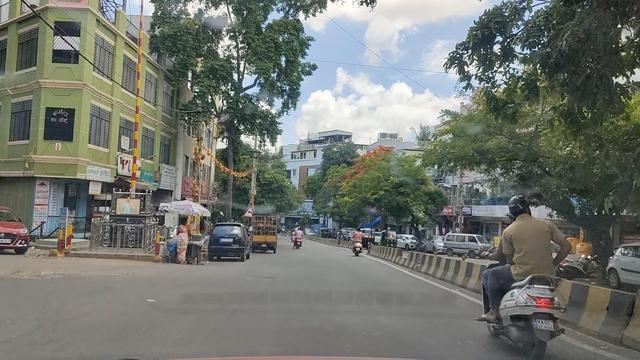LMV: (210, 224, 253, 257)
